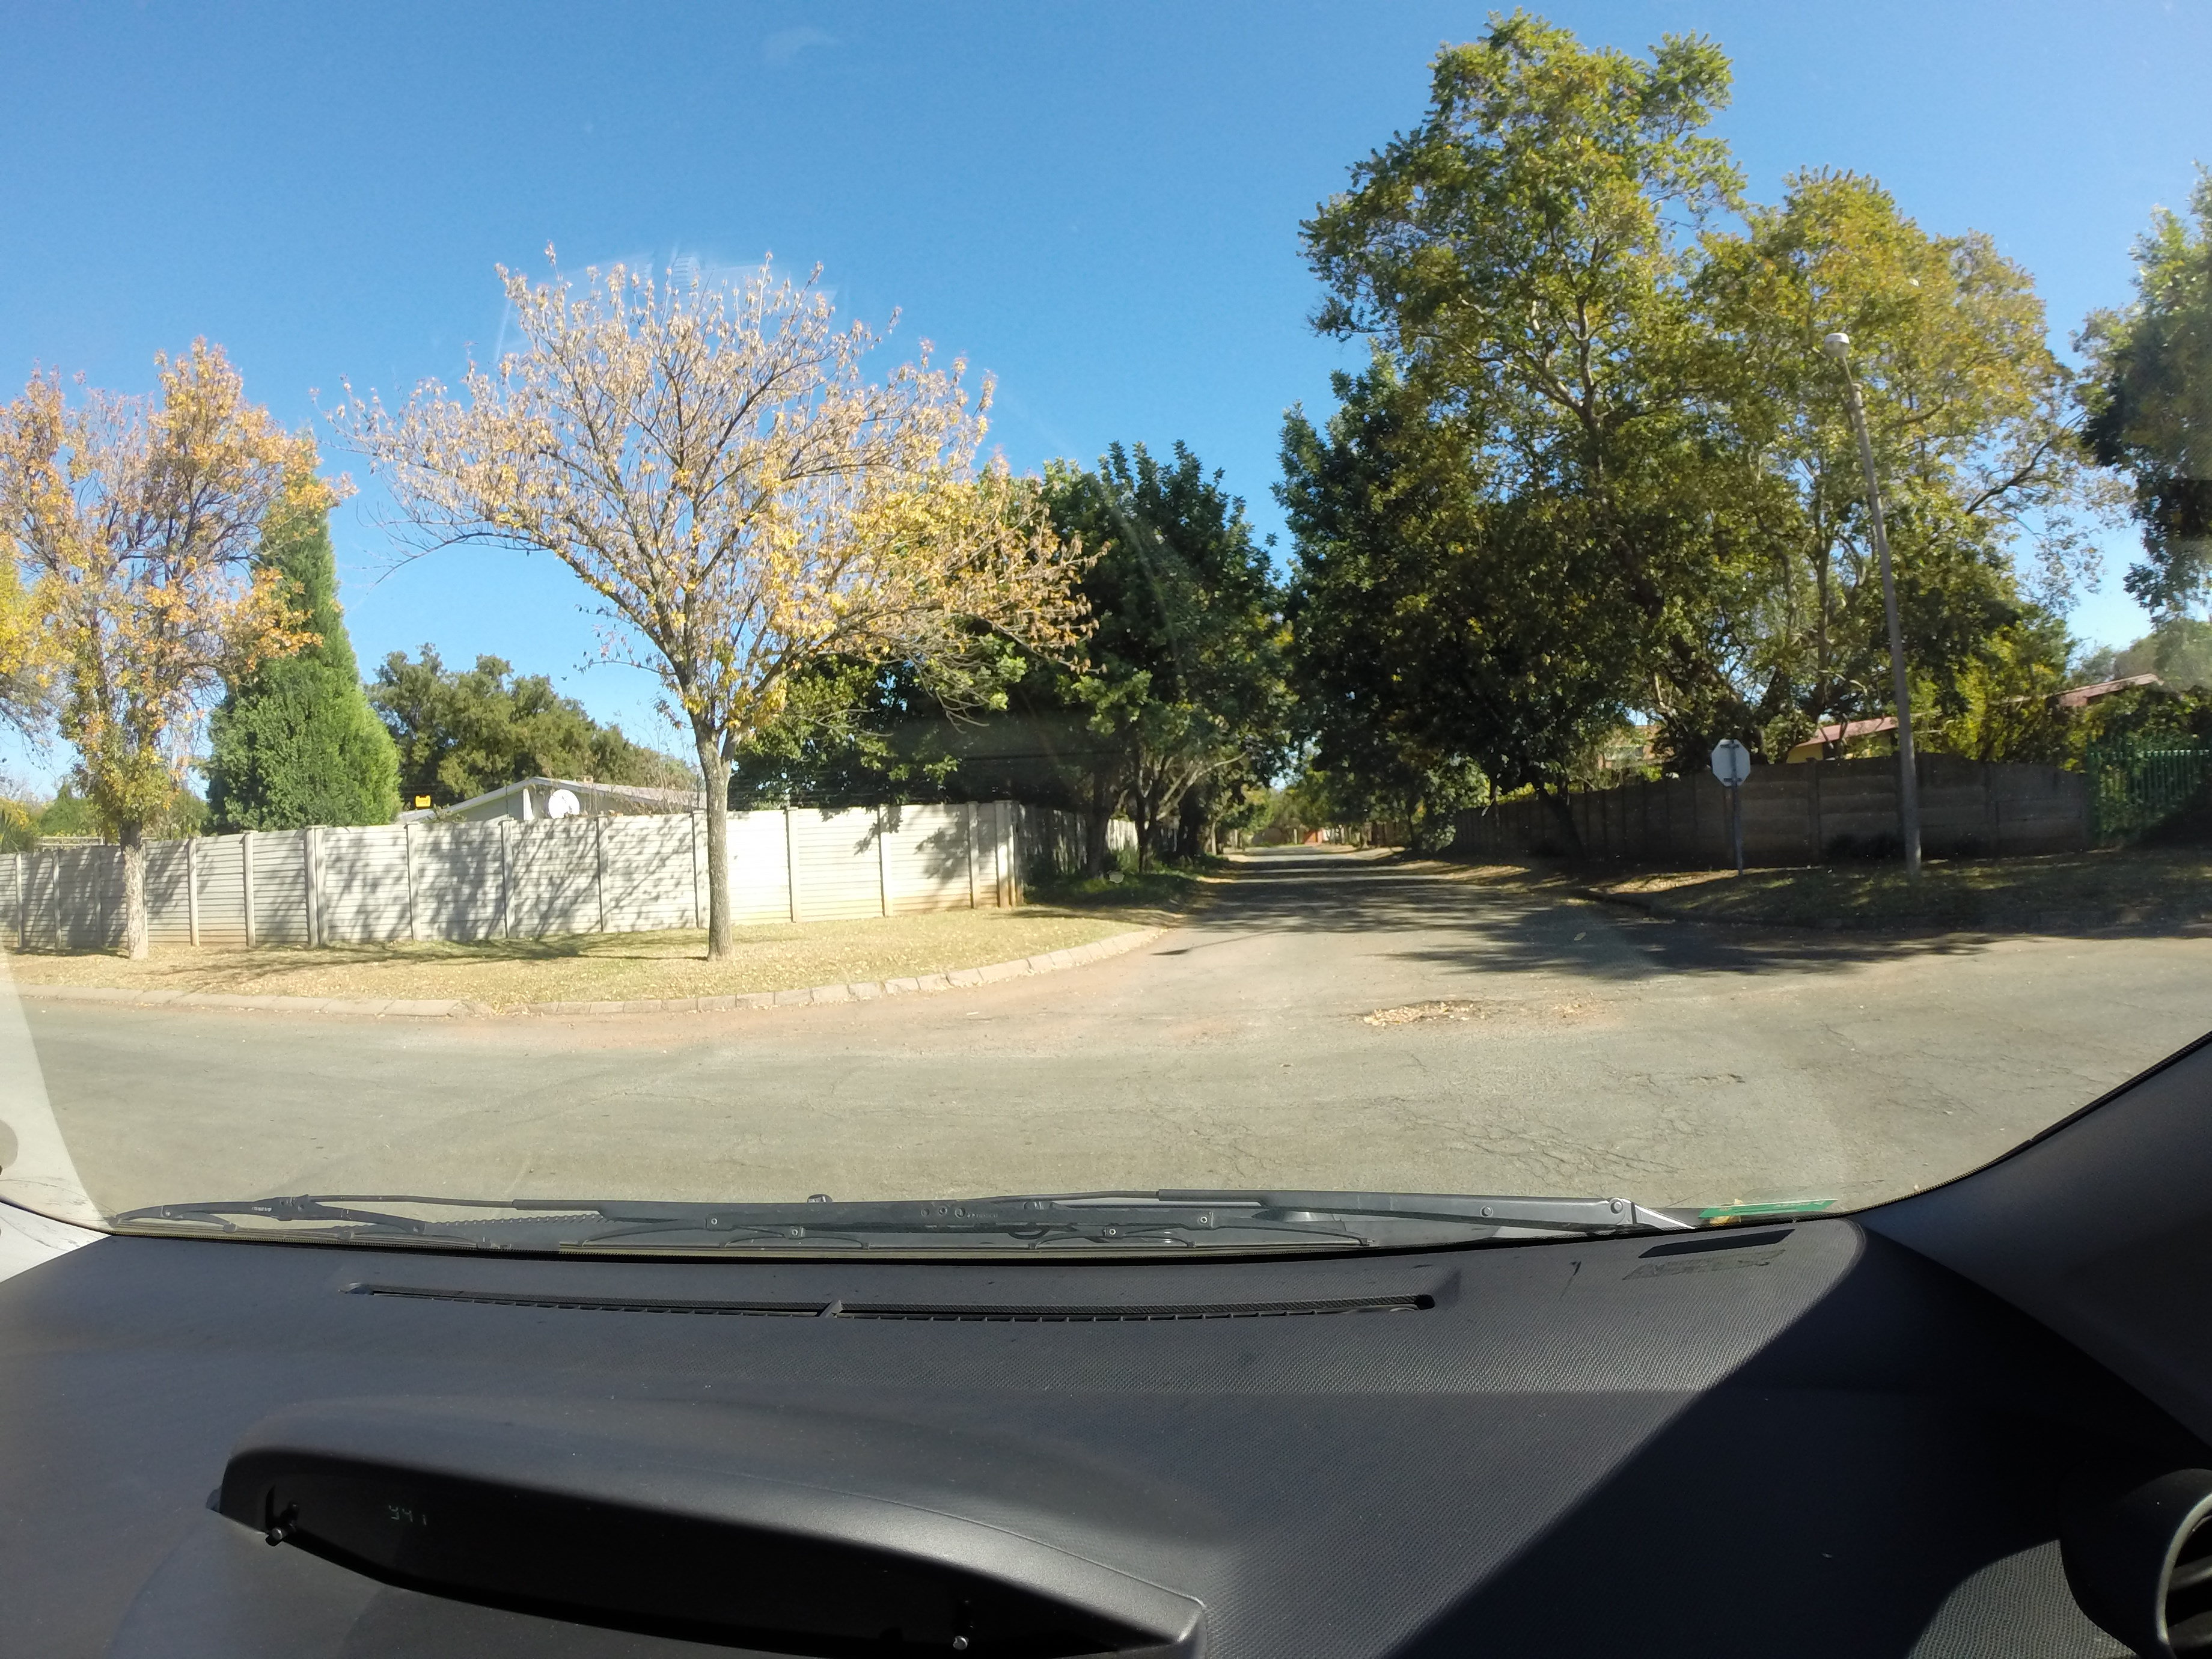pothole: (1352, 985, 1655, 1082)
